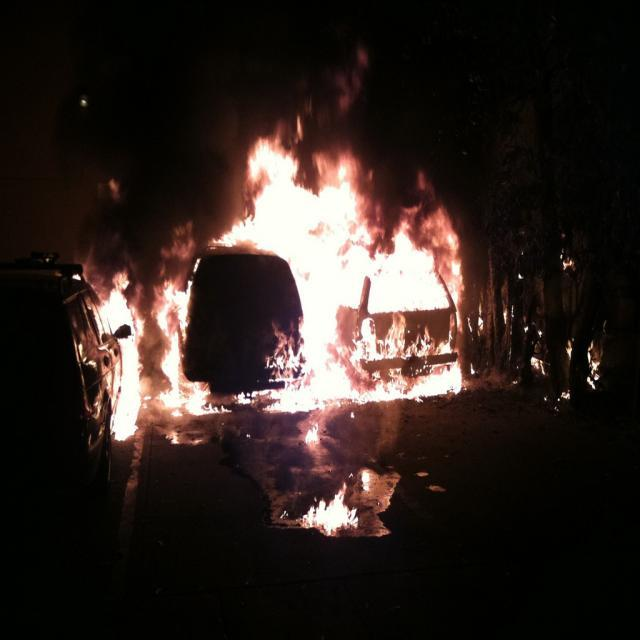Fire: (306, 248, 354, 407), (365, 252, 449, 306), (258, 184, 302, 244)
